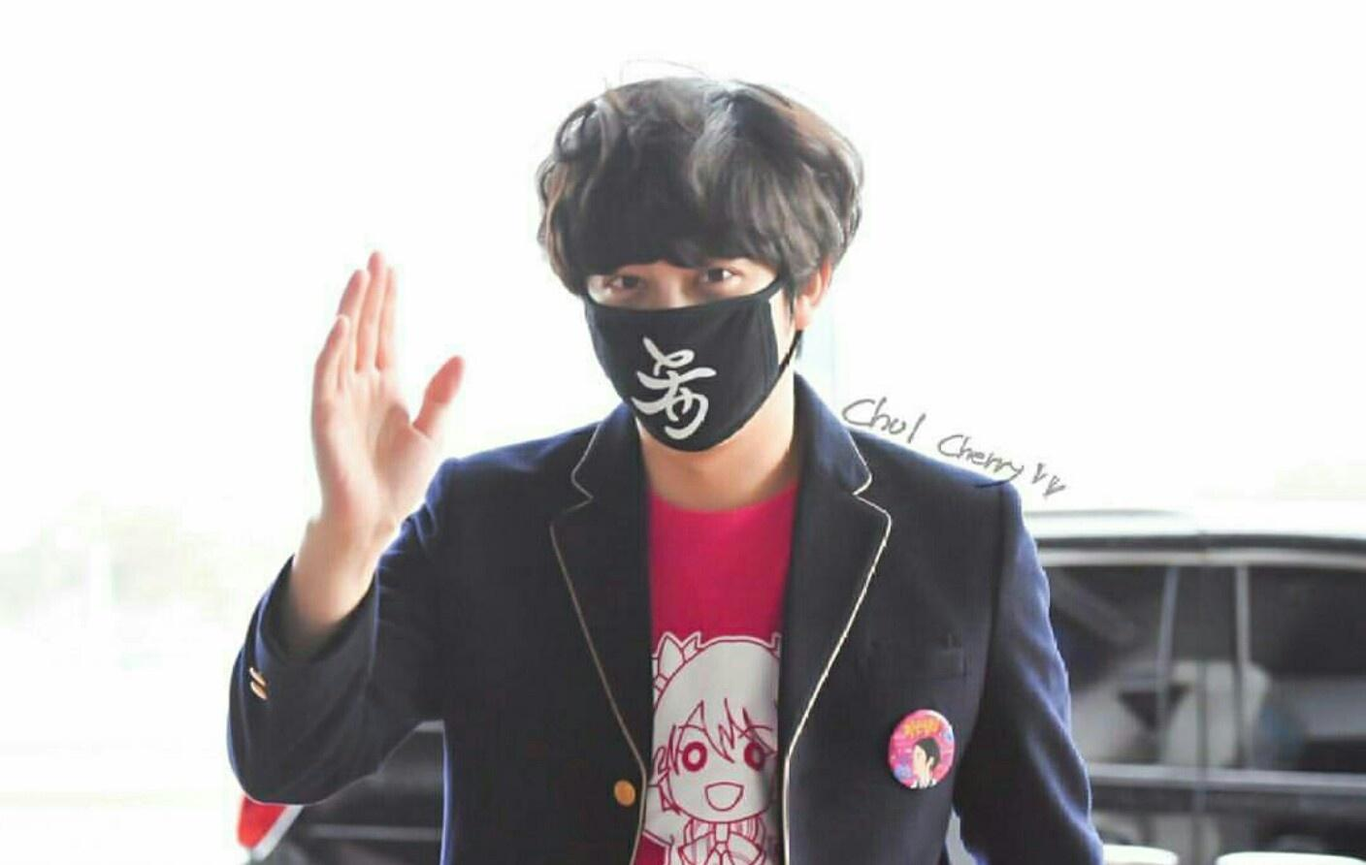OK: (575, 240, 789, 453)
